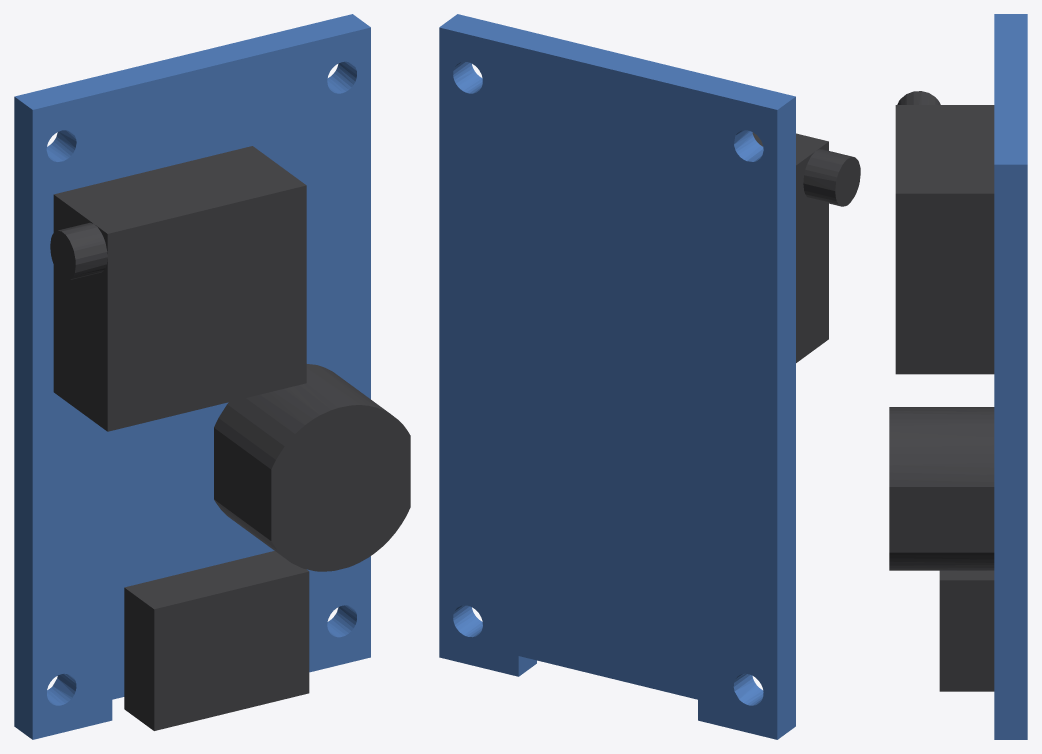
3 views of the same model, side by side, from view 1: azimuth 30°, elevation 25°; view 2: azimuth 150°, elevation 25°; view 3: azimuth 270°, elevation 25° (orthographic). The views are drawn at different scales.
Parts seen in each view (by area): view 1: c0, c1; view 2: c0, c1; view 3: c1, c0.
Part boxes in pixels (x1,y1,x2,y2): c0: (14,14,370,739); c1: (50,146,410,730); c0: (439,14,795,739); c1: (752,132,860,362); c1: (889,91,994,691); c0: (994,14,1027,739).
Size of the model in its own units: 17.55 by 30.25 by 6.6.
